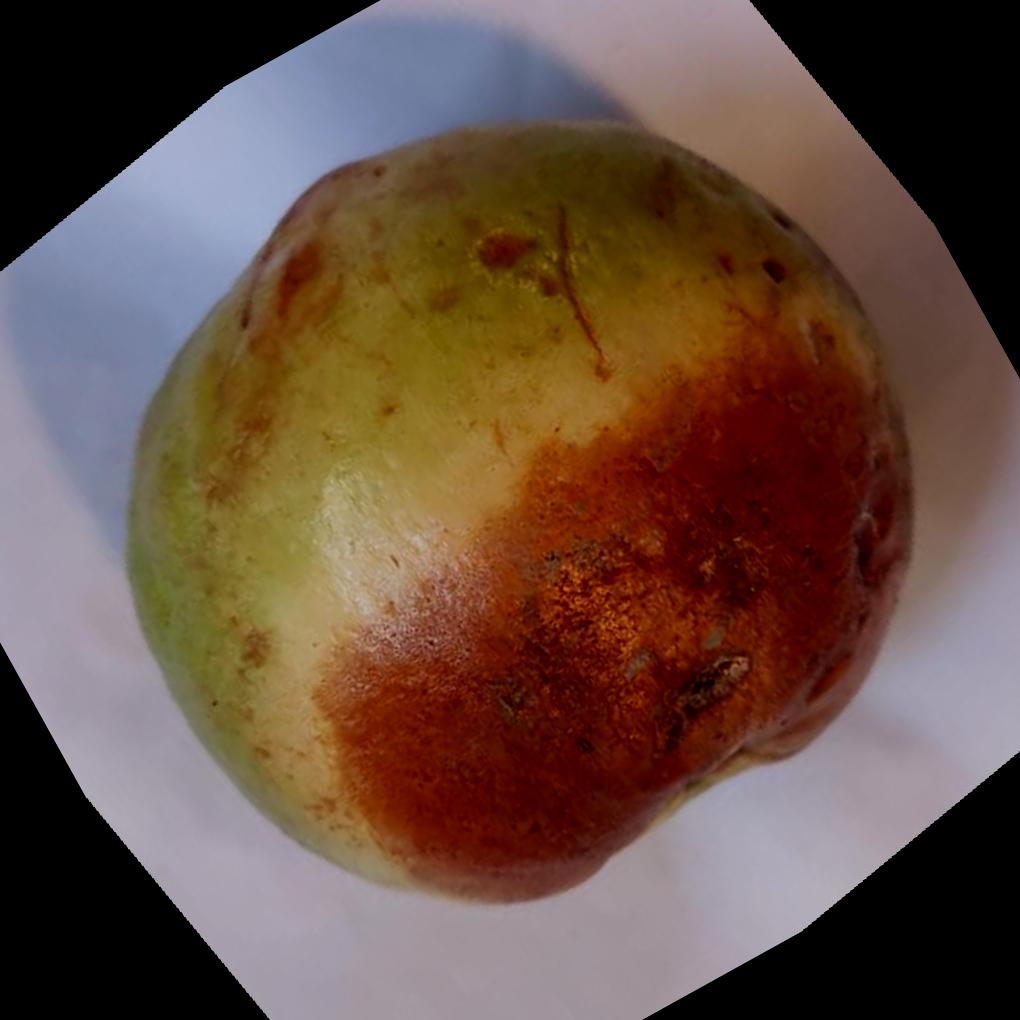FreshOrange: (126, 115, 919, 906)
